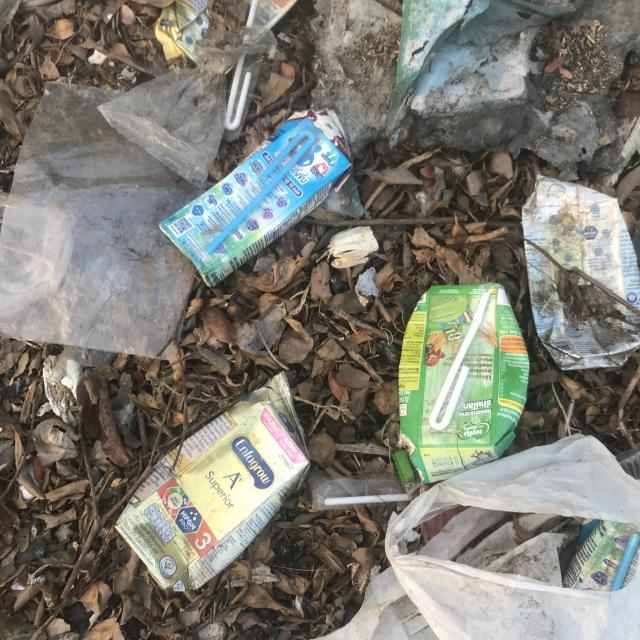Single-layer Plastic: (316, 435, 640, 640), (0, 82, 202, 358), (99, 68, 226, 188)
